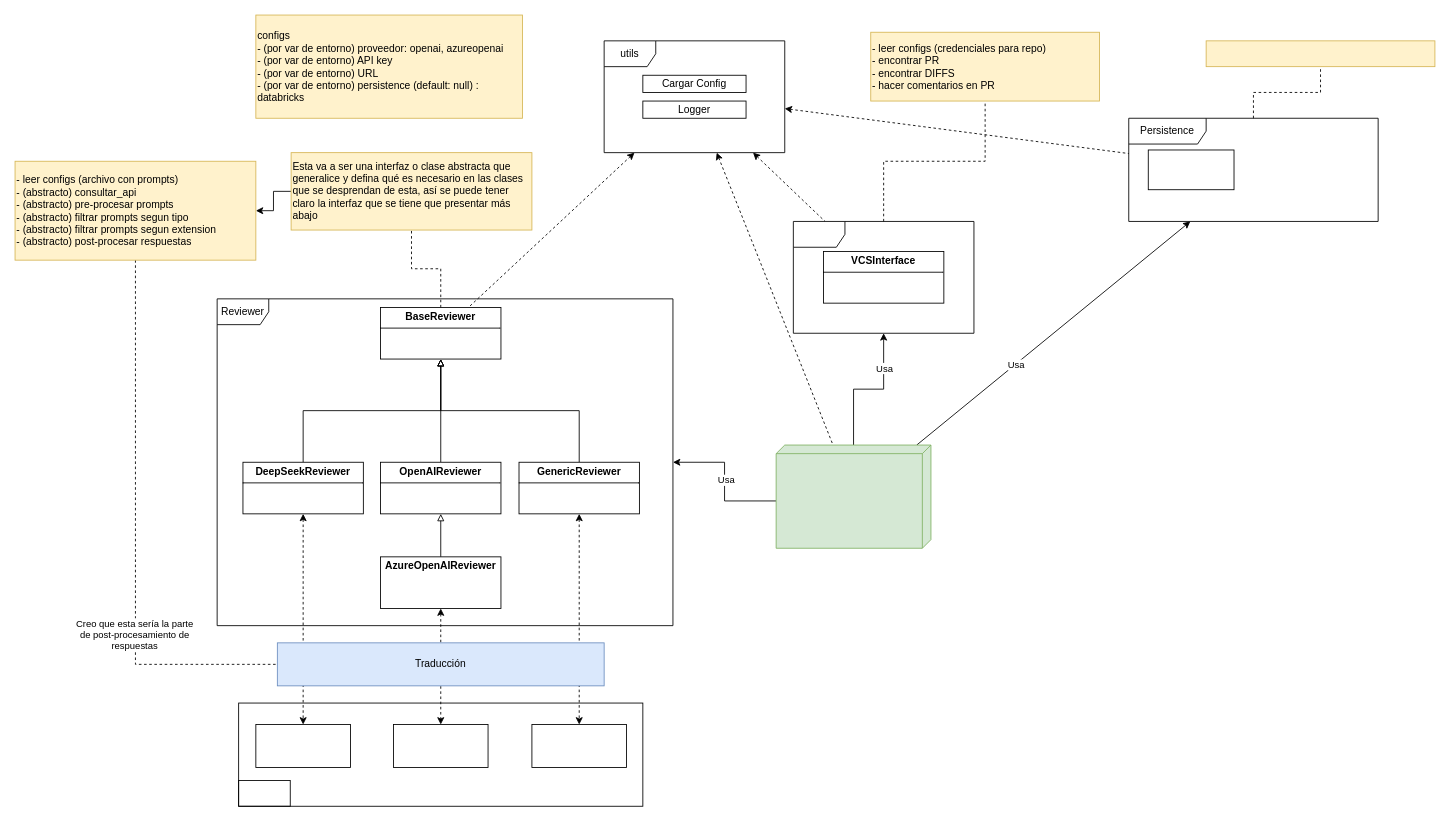
Some shapes in this 1450 by 821 pixel diagram are drawn without their labels. The centre of each missing label's shape, as x and y in pixels:
"(Connector) Databricks" goes at pixel 1190 169.
"- habilidad de persistir respuestas" goes at pixel 1320 53.
"Boton" goes at pixel 853 496.
"Claude, Groq, etc" goes at pixel 579 746.
"DeepSeek" goes at pixel 302 746.
"Interfaces" goes at pixel 883 277.
"Internet" goes at pixel 264 793.
"OpenAI + Azure" goes at pixel 440 746.
